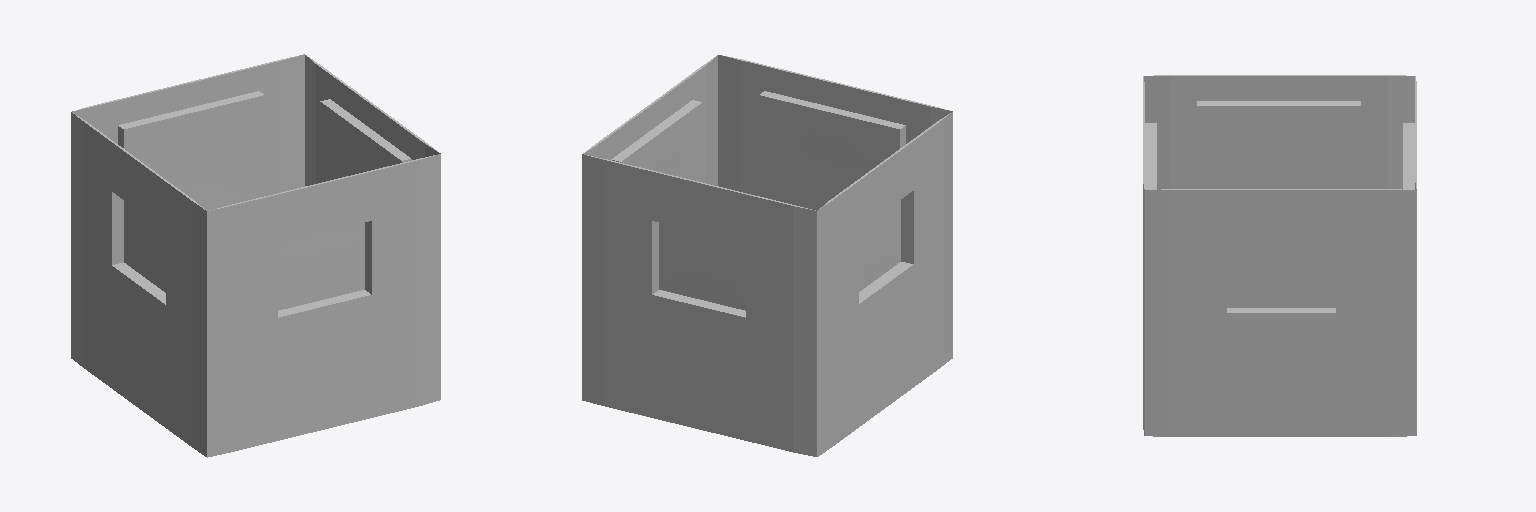
The model's file is cubeWindow.obj.
3 renders of one model, left to right at view 1: azimuth 30°, elevation 25°; view 2: azimuth 150°, elevation 25°; view 3: azimuth 270°, elevation 25°, orthographic.
Visible parts, largest first — view 1: polySurface17; view 2: polySurface17; view 3: polySurface17.
Boxes of the visible parts, <box> form: polySurface17: <box>71,54,440,457</box>; polySurface17: <box>582,55,952,456</box>; polySurface17: <box>1143,75,1416,436</box>.
Size of the model in its own units: 80.05 by 80 by 80.91.